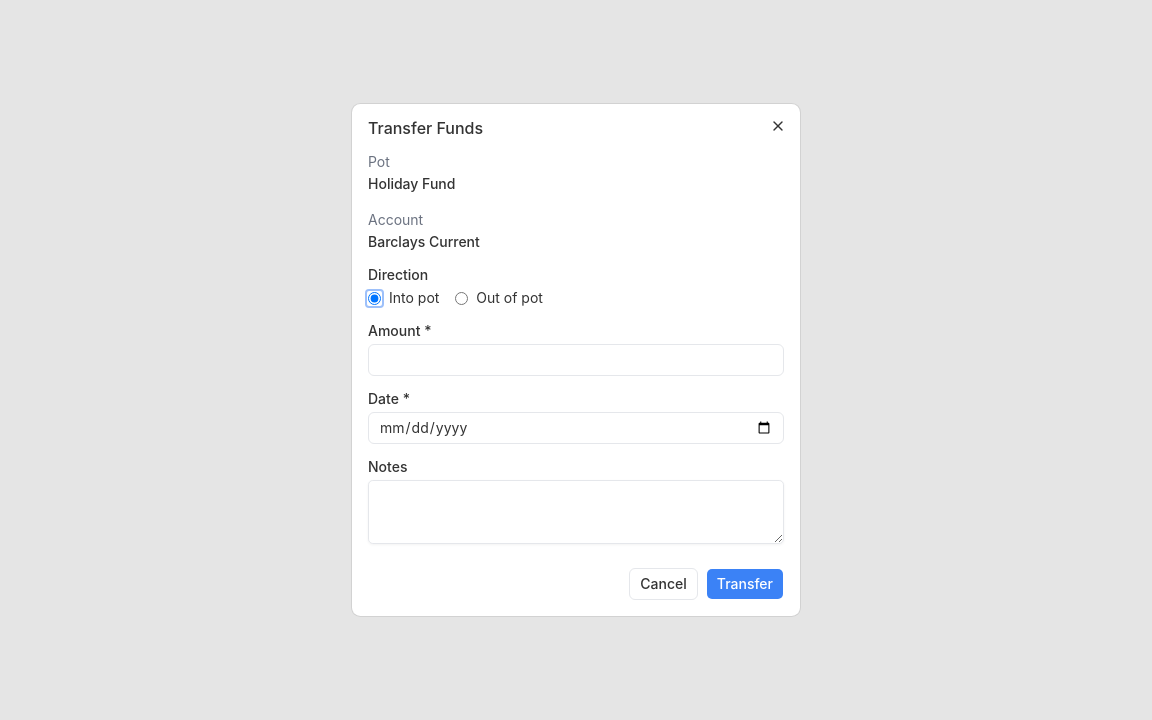
PotTransferDialog › shows validation errors when submitting empty form
The width and height of the screenshot is (1152, 720).
Click the button "Transfer" at (745, 584), box [706, 568, 784, 600]
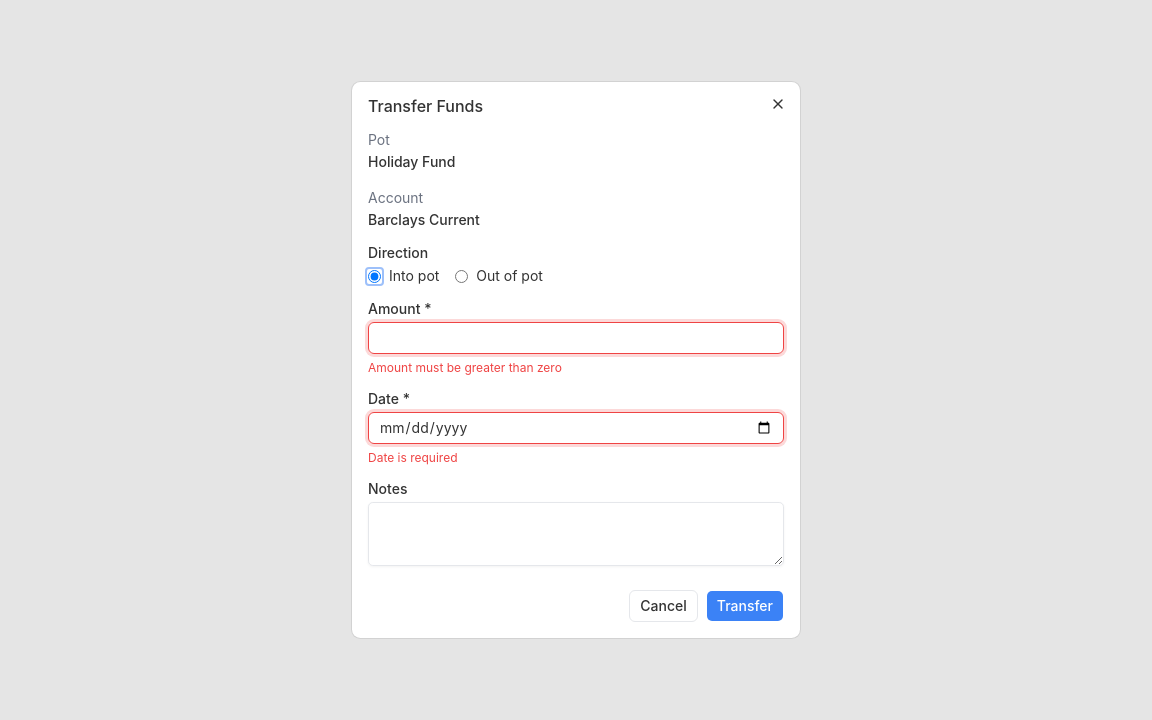
Result: the text "Amount must be greater than zero" is shown at [368, 360, 562, 375]
Result: the text "Date is required" is shown at [368, 450, 458, 465]
